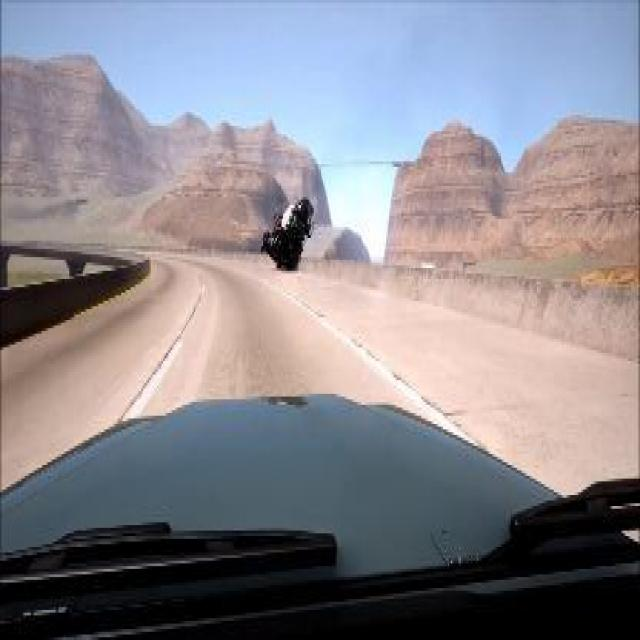accident: (258, 196, 314, 270)
